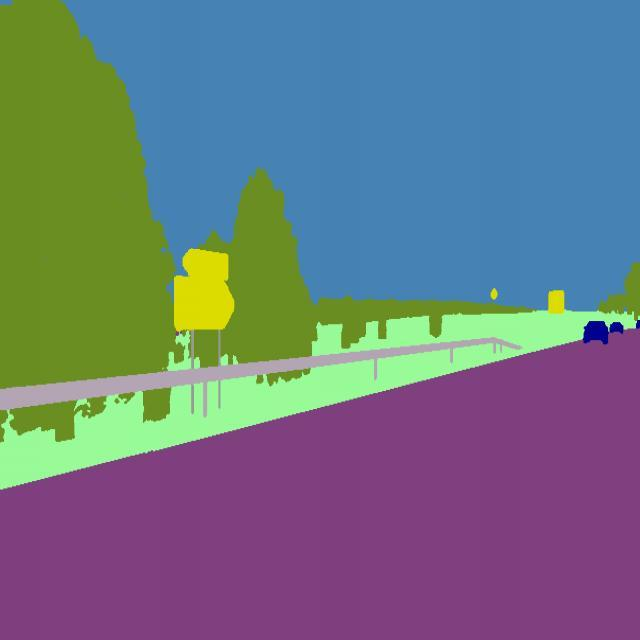safe: (582, 313, 610, 348), (606, 314, 626, 338), (632, 312, 640, 331)
